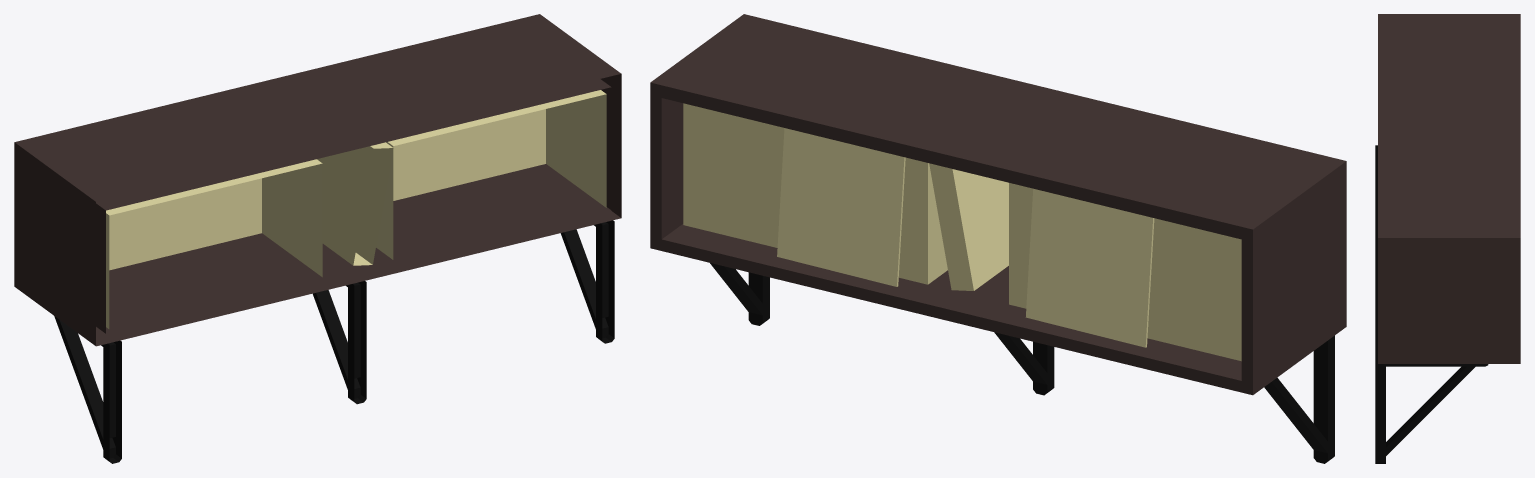
Rendered from RECORD.fbx.
3 views of the same model, side by side, from view 1: azimuth 30°, elevation 25°; view 2: azimuth 150°, elevation 25°; view 3: azimuth 270°, elevation 25° (orthographic). The views are drawn at different scales.
Visible parts, largest first — view 1: Audioset; view 2: Audioset; view 3: Audioset.
Boxes of the visible parts, x1=… form: Audioset: x1=14, y1=14, x2=621, y2=463; Audioset: x1=650, y1=14, x2=1346, y2=463; Audioset: x1=1375, y1=14, x2=1520, y2=463.
Bounding box in the file's own units: 179 × 86.05 × 49.14.
